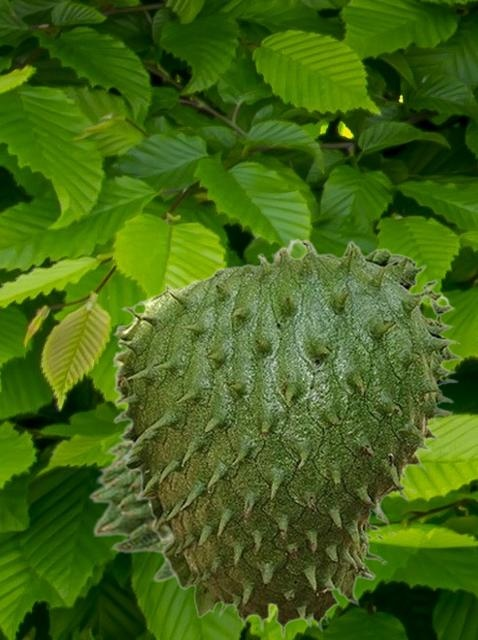guyabano: (112, 237, 463, 638), (87, 422, 174, 582)
